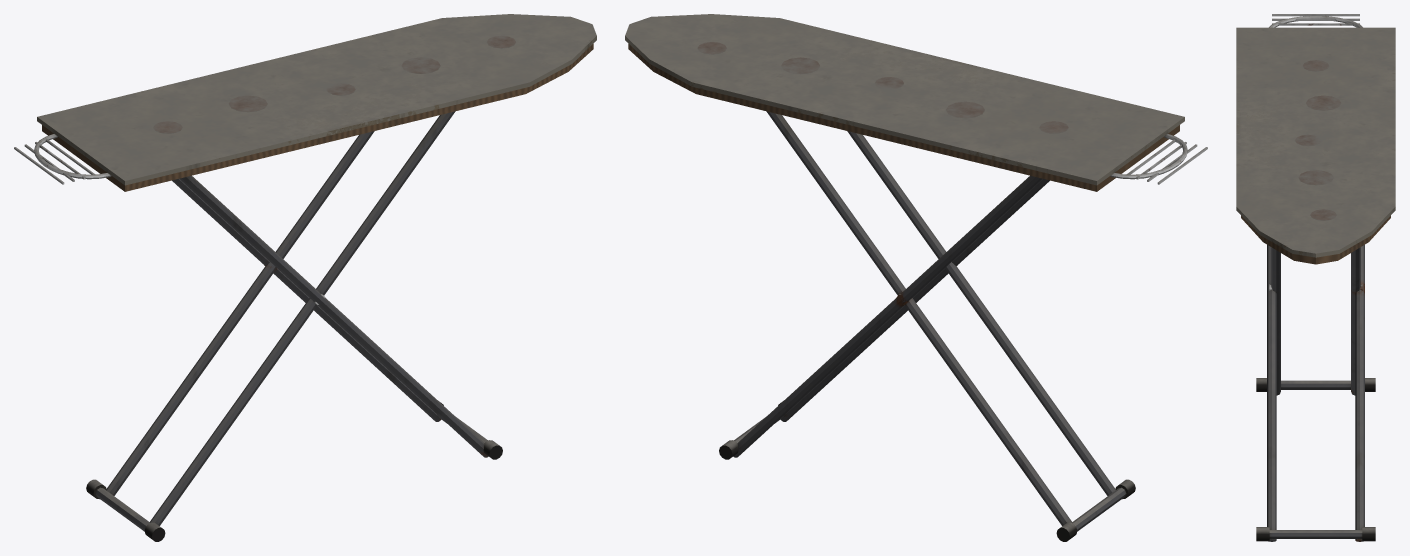
The model's file is SM_IroningBoard.fbx.
The picture shows the model from 3 angles, left to right: view 1: azimuth 30°, elevation 25°; view 2: azimuth 150°, elevation 25°; view 3: azimuth 270°, elevation 25°; orthographic projection. The views are drawn at different scales.
Visible parts, largest first — view 1: SM_IroningBoard; view 2: SM_IroningBoard; view 3: SM_IroningBoard.
Boxes of the visible parts, x1,y1,x2,y2 form: SM_IroningBoard: (14, 14, 596, 541); SM_IroningBoard: (625, 14, 1207, 541); SM_IroningBoard: (1236, 14, 1395, 541).
Bounding box in the file's own units: 1.31 × 0.8683 × 0.3604.
Materials: 1 (1 with a texture image).
